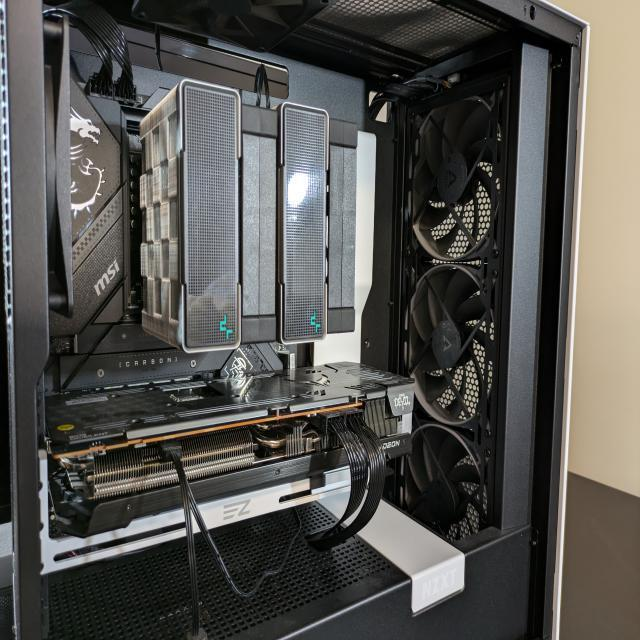CPU_Fan: (139, 77, 358, 354)
Mainboard: (60, 80, 298, 392)
